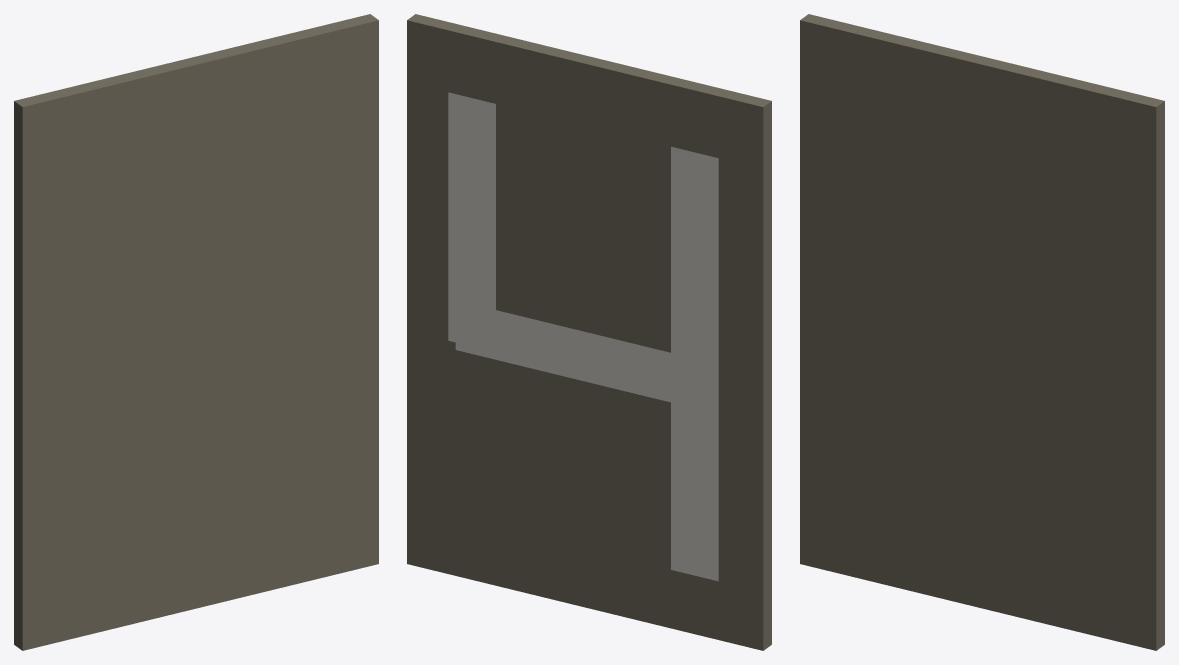
File: stair_digit_4.glb
3 renders of one model, left to right at view 1: azimuth 30°, elevation 25°; view 2: azimuth 150°, elevation 25°; view 3: azimuth 330°, elevation 25°, orthographic.
Visible parts, largest first — view 1: stair_digit_4; view 2: stair_digit_4; view 3: stair_digit_4.
Part boxes in pixels (bbox=[...]): stair_digit_4: bbox=[14, 14, 378, 650]; stair_digit_4: bbox=[407, 14, 771, 650]; stair_digit_4: bbox=[800, 14, 1164, 650].
Size of the model in its own units: 0.24 by 0.35 by 0.012.
Materials: 2 (2 with a texture image).
